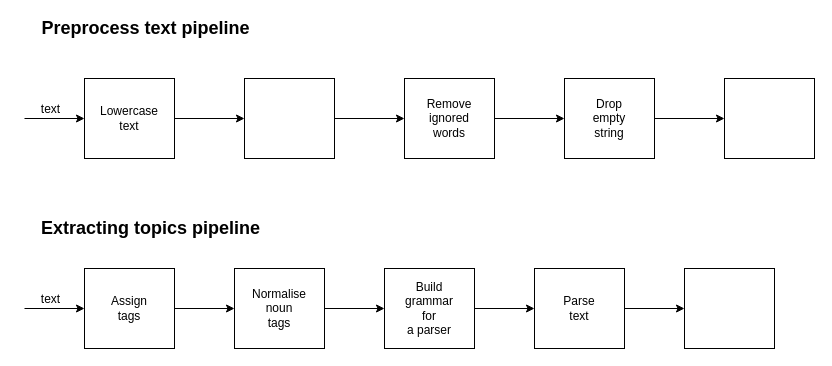
The diagram is 832 pixels wide and 366 high, and some of its shapes have lost their labels. Each missing label, with the box of its shape:
Extract topics: (724, 78, 814, 158)
Filter tag and Merge words: (684, 268, 774, 348)
Remove punctuation: (244, 78, 334, 158)
